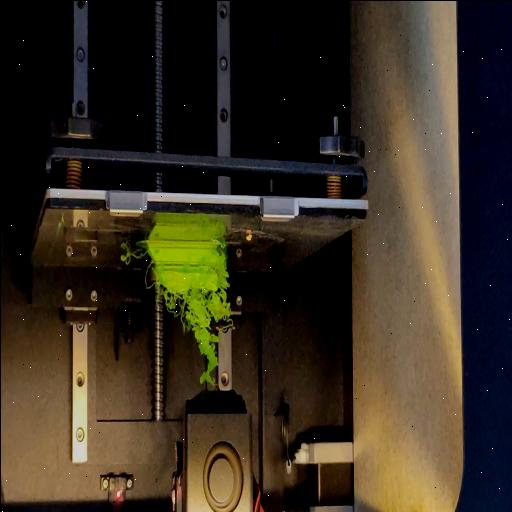spaghetti: (162, 281, 230, 387), (218, 241, 230, 280), (120, 247, 143, 265), (143, 260, 153, 292)
